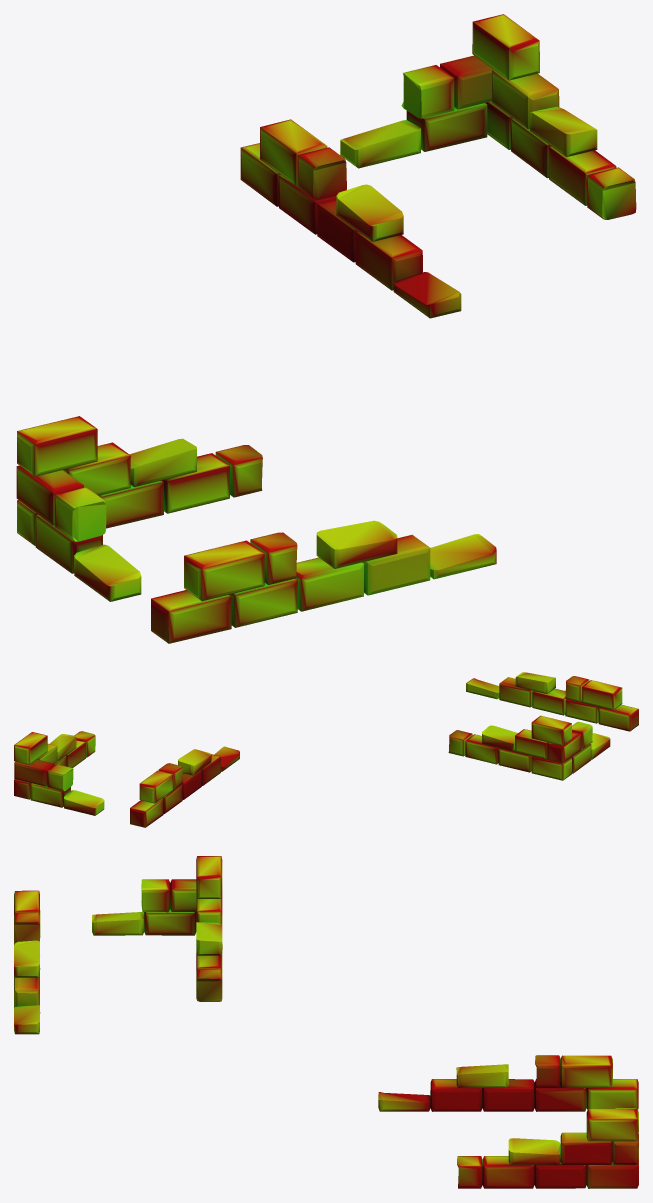
File: ruin_lower_model.obj
3 views of the same model, one above another, from view 1: azimuth 30°, elevation 25°; view 2: azimuth 150°, elevation 25°; view 3: azimuth 270°, elevation 25° (orthographic). The views are drawn at different scales.
Visible parts, largest first — view 1: Ruin; view 2: Ruin; view 3: Ruin.
Part boxes in pixels (box(x1,y1,x2,y2)): Ruin: box(16, 14, 636, 643); Ruin: box(14, 672, 638, 827); Ruin: box(14, 856, 638, 1188).
Bounding box in the file's own units: 24.02 × 3.01 × 24.01.
